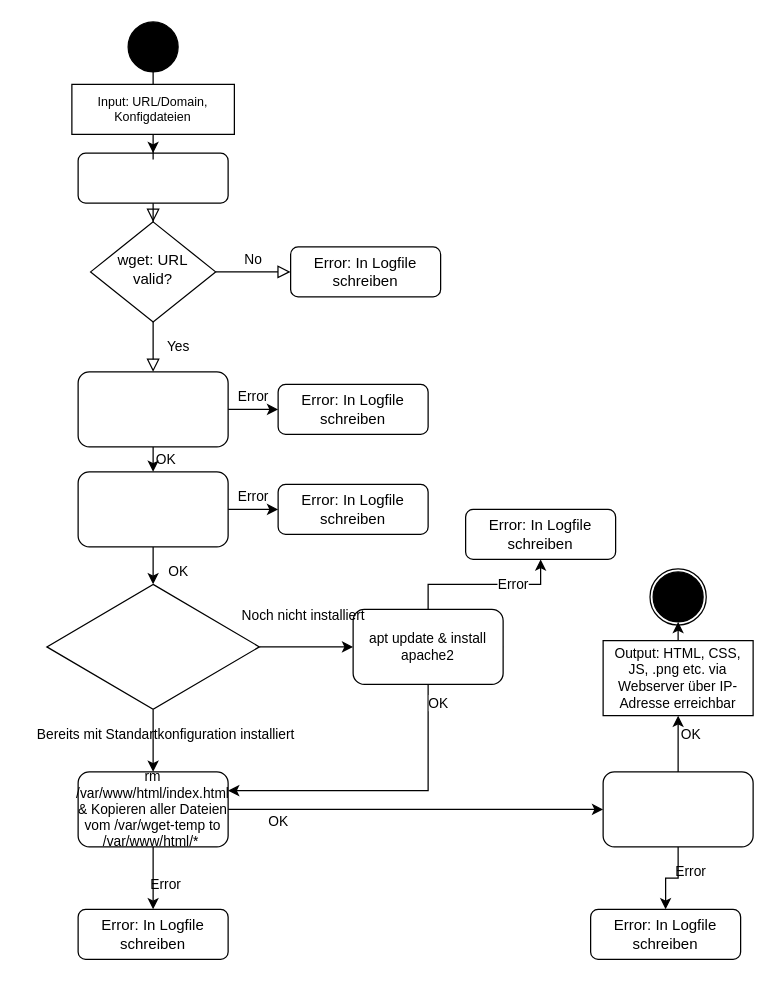
This 775x981 diagram has some shape labels left out. The shapes that lost their labels are listed below. From the top down, each one's centre as x and y in pixels, then its label:
[152,177]: Aufruf Kommando wget
[152,409]: wget: Get via HTTP: HTML, CSS, JS, .png etc.
[152,509]: Daten ablegen in temporärem Ordner: /var/wget-temp
[152,646]: Prüfen via "systemctl status" ob Apache2 installiert
[677,809]: Apache2 mit systemctl enablen und starten
